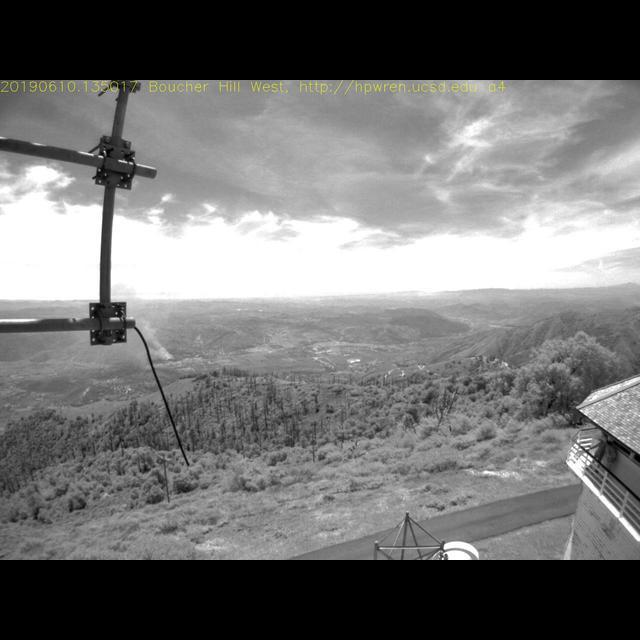Smoke: (127, 297, 174, 365)
